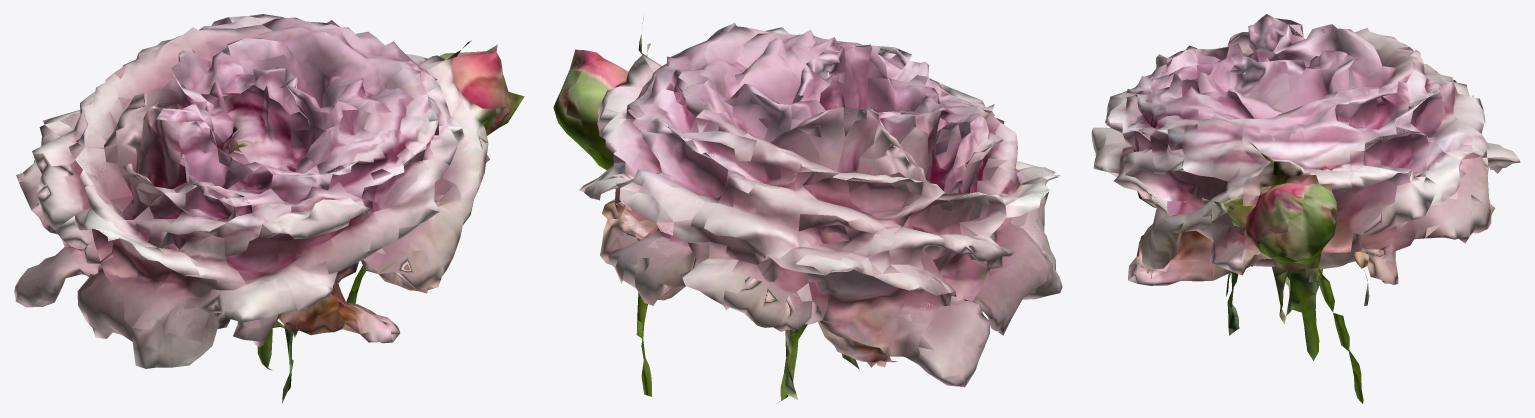
The picture shows the model from 3 angles, left to right: view 1: azimuth 30°, elevation 25°; view 2: azimuth 150°, elevation 25°; view 3: azimuth 270°, elevation 25°; orthographic projection. The views are drawn at different scales.
Parts seen in each view (by area): view 1: 7ca6e40f; view 2: 7ca6e40f; view 3: 7ca6e40f.
Part boxes in pixels (x1,y1,x2,y2): 7ca6e40f: [14, 14, 524, 403]; 7ca6e40f: [553, 18, 1062, 402]; 7ca6e40f: [1091, 14, 1520, 403].
Size of the model in its own units: 0.0833 by 0.0574 by 0.0749.
1 material, 1 textured.
